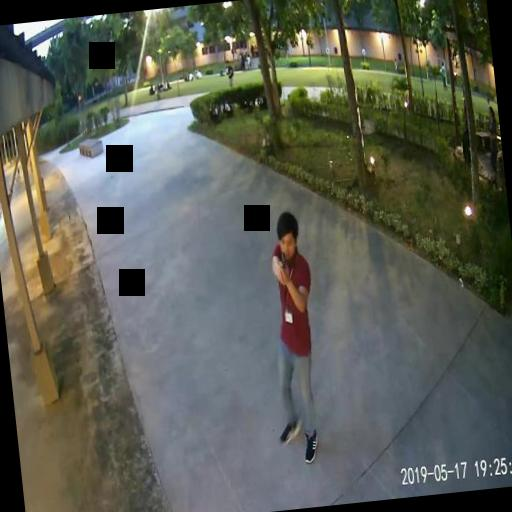Handgun: (274, 248, 292, 282)
